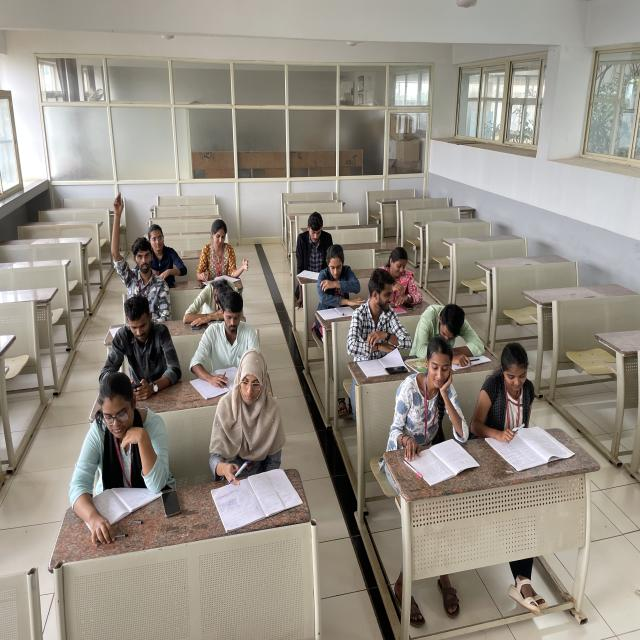Hand Rising: (109, 192, 171, 303)
Reading: (73, 382, 176, 536), (396, 336, 482, 472), (481, 345, 561, 462), (315, 244, 370, 317), (191, 220, 249, 288), (286, 210, 340, 274)
Using Phone: (100, 300, 186, 402)
Writing: (199, 348, 293, 506)
